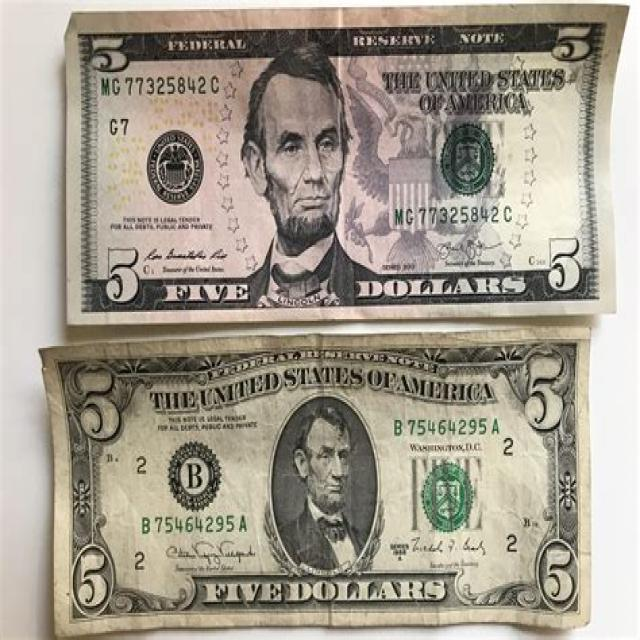Five: (61, 10, 620, 317)
